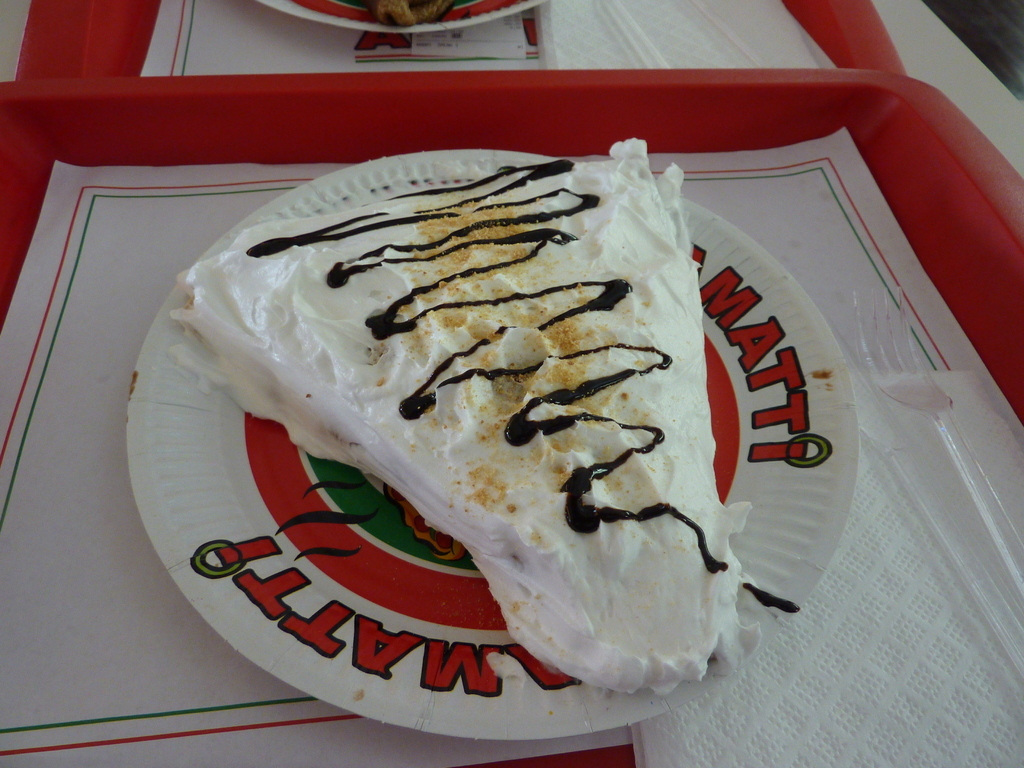cake: (139, 118, 849, 698)
